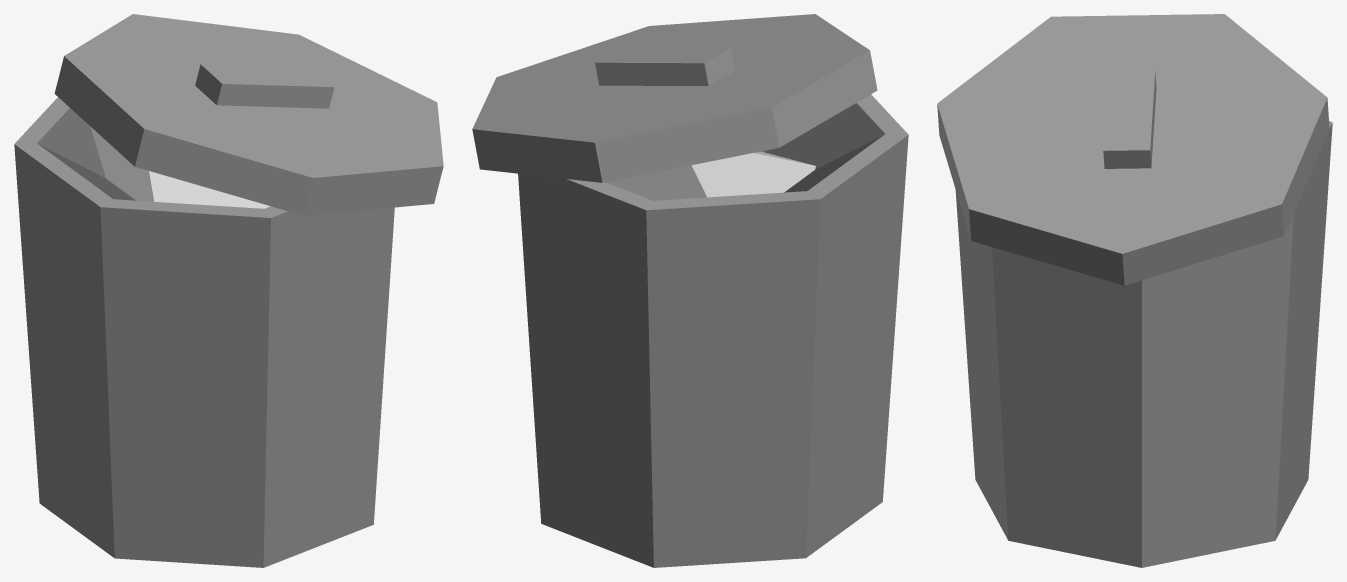
The model's file is trash_001.fbx.
3 renders of one model, left to right at view 1: azimuth 30°, elevation 25°; view 2: azimuth 150°, elevation 25°; view 3: azimuth 270°, elevation 25°, orthographic. The views are drawn at different scales.
Visible parts, largest first — view 1: trash_001; view 2: trash_001; view 3: trash_001.
Part boxes in pixels (x1=…): trash_001: x1=14, y1=14, x2=443, y2=567; trash_001: x1=472, y1=14, x2=908, y2=567; trash_001: x1=937, y1=14, x2=1332, y2=567.
Size of the model in its own units: 87.11 by 98.33 by 81.85.
